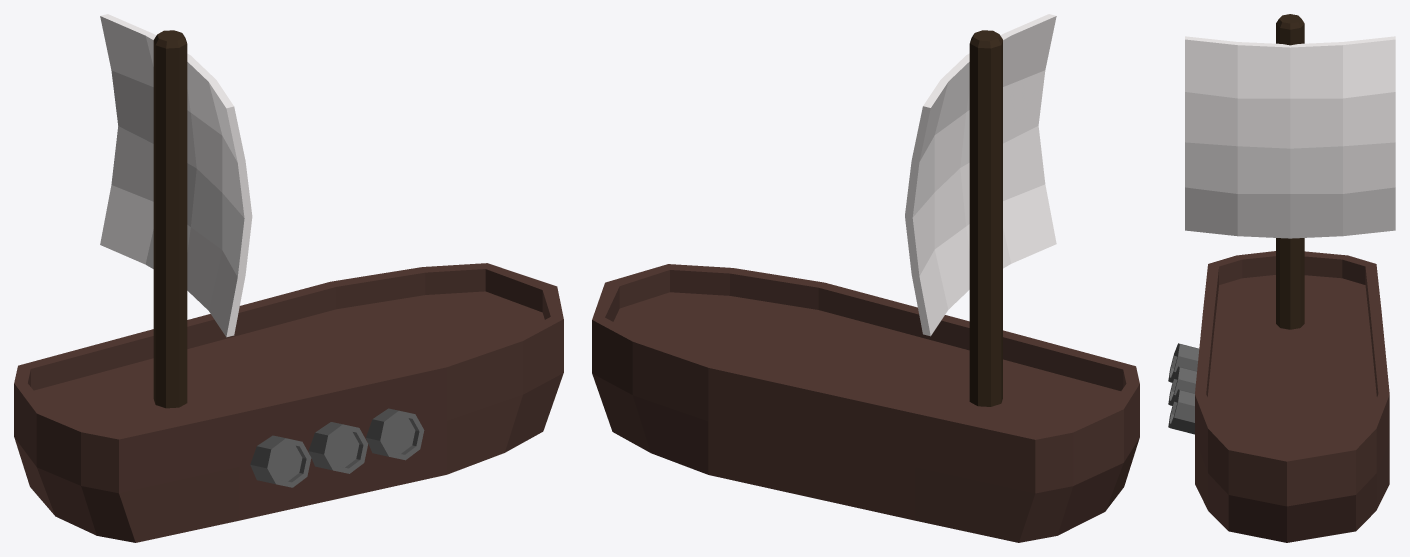
File: boat.fbx
3 views of the same model, side by side, from view 1: azimuth 30°, elevation 25°; view 2: azimuth 150°, elevation 25°; view 3: azimuth 270°, elevation 25° (orthographic). The views are drawn at different scales.
Parts seen in each view (by area): view 1: Boat; view 2: Boat; view 3: Boat.
Boxes of the visible parts, x1=… form: Boat: x1=14, y1=14, x2=563, y2=542; Boat: x1=592, y1=14, x2=1139, y2=542; Boat: x1=1168, y1=14, x2=1395, y2=542.
Bounding box in the file's own units: 5362 × 4436 × 2432.
